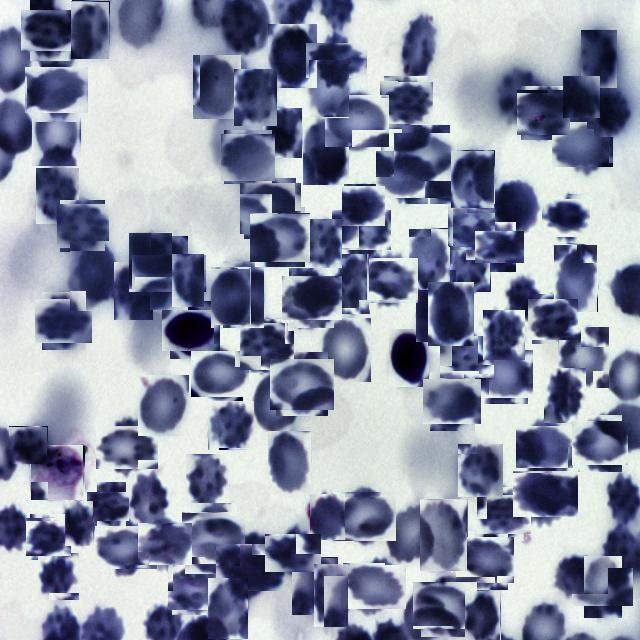leukocyte: (166, 305, 216, 355), (389, 329, 429, 387)
red blood cell: (420, 499, 468, 571), (273, 355, 331, 413), (222, 538, 280, 596), (328, 92, 386, 150), (319, 318, 371, 382), (385, 501, 437, 565), (32, 99, 81, 166), (558, 326, 610, 388), (242, 180, 298, 237), (268, 24, 317, 89), (193, 54, 242, 119), (250, 372, 301, 434), (347, 558, 403, 614), (518, 466, 574, 522), (398, 129, 454, 185), (417, 577, 473, 633), (141, 245, 197, 301), (303, 117, 349, 185), (138, 375, 189, 436), (337, 488, 392, 544), (70, 242, 114, 312), (554, 244, 598, 312), (30, 63, 84, 118), (252, 210, 307, 264), (428, 282, 474, 346), (477, 348, 531, 401), (187, 508, 240, 562), (378, 148, 431, 202), (398, 15, 440, 82), (100, 421, 153, 474), (458, 534, 512, 586), (193, 348, 246, 400), (285, 272, 338, 324), (556, 118, 608, 171), (223, 261, 264, 328), (268, 431, 311, 494), (100, 521, 152, 573), (426, 376, 478, 428), (25, 4, 77, 56), (491, 179, 540, 234), (292, 557, 338, 615), (416, 288, 465, 342), (129, 232, 173, 292), (409, 228, 451, 290), (364, 256, 416, 306), (574, 418, 626, 468), (222, 132, 274, 182), (451, 150, 495, 208), (39, 296, 90, 346), (242, 321, 292, 372), (170, 562, 220, 612), (520, 422, 570, 472), (578, 562, 628, 612), (336, 205, 386, 255), (234, 70, 277, 128), (519, 88, 568, 138), (208, 578, 248, 639), (496, 68, 542, 121), (458, 443, 503, 497), (36, 168, 79, 224), (428, 152, 476, 202), (312, 36, 361, 84), (208, 400, 255, 450), (186, 454, 229, 508), (211, 268, 251, 326), (309, 60, 349, 118), (332, 253, 370, 314), (544, 368, 586, 423), (382, 78, 430, 126), (480, 490, 528, 538), (442, 333, 490, 381), (140, 520, 188, 568), (58, 202, 106, 250), (71, 1, 110, 59), (114, 262, 153, 320), (269, 530, 317, 577), (314, 563, 349, 627), (554, 554, 608, 594), (298, 219, 342, 268), (530, 296, 576, 342), (483, 310, 525, 360), (581, 30, 617, 88), (449, 203, 494, 249), (38, 552, 80, 600), (129, 472, 169, 521), (263, 108, 302, 158), (544, 197, 588, 240), (504, 275, 541, 325), (465, 590, 501, 640), (28, 516, 70, 558), (343, 185, 385, 227), (594, 88, 630, 137), (450, 249, 491, 292), (172, 254, 204, 307), (480, 226, 520, 268), (310, 494, 345, 540), (92, 487, 132, 527), (563, 76, 600, 118), (9, 426, 48, 464), (65, 500, 94, 546)
trophozoite: (30, 446, 84, 500)
